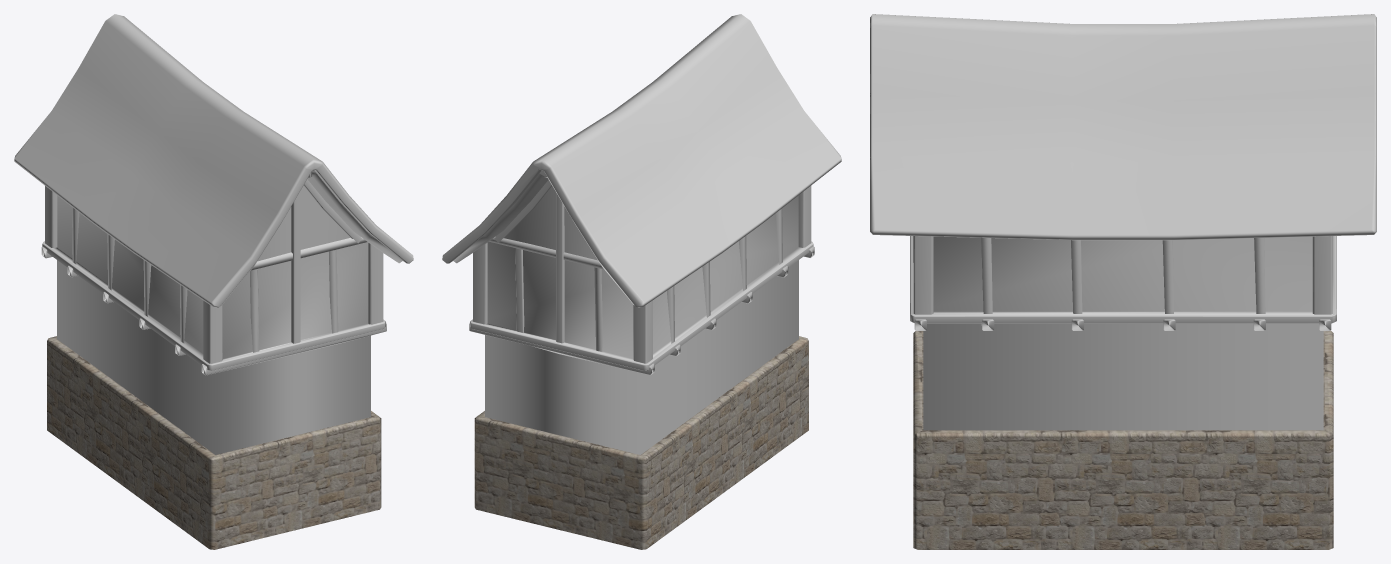
Rendered from HouseBricksNormal_1.fbx.
3 renders of one model, left to right at view 1: azimuth 30°, elevation 25°; view 2: azimuth 150°, elevation 25°; view 3: azimuth 270°, elevation 25°, orthographic. The views are drawn at different scales.
Parts seen in each view (by area): view 1: Mesh; view 2: Mesh; view 3: Mesh.
Boxes of the visible parts, x1=… form: Mesh: x1=14, y1=14, x2=413, y2=549; Mesh: x1=442, y1=14, x2=841, y2=549; Mesh: x1=870, y1=14, x2=1376, y2=549.
Bounding box in the file's own units: 692 × 1252 × 1191.
